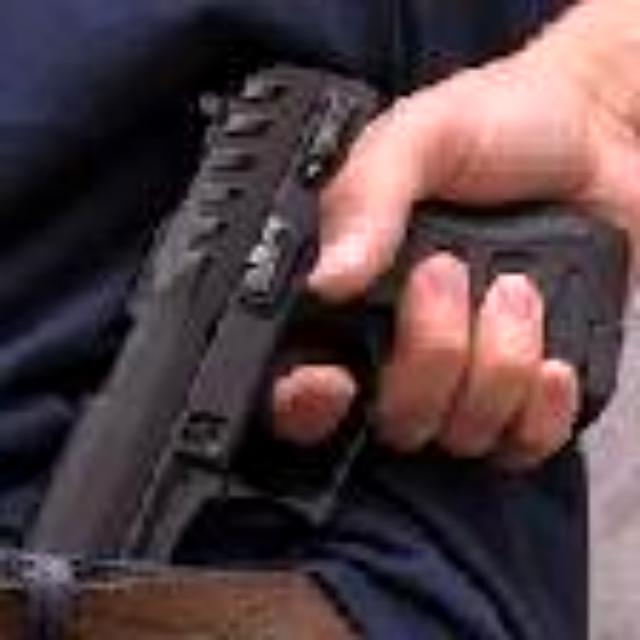pistol: (23, 0, 640, 566), (17, 51, 628, 575)
